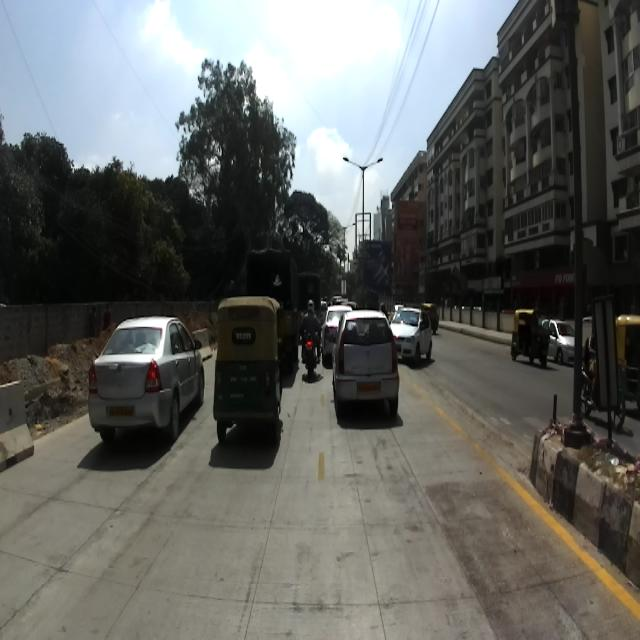auto ahead at: (212, 292, 283, 447)
car ahead at: (82, 313, 207, 440), (336, 310, 400, 416)
motorcycle ahead at: (298, 303, 324, 383)
